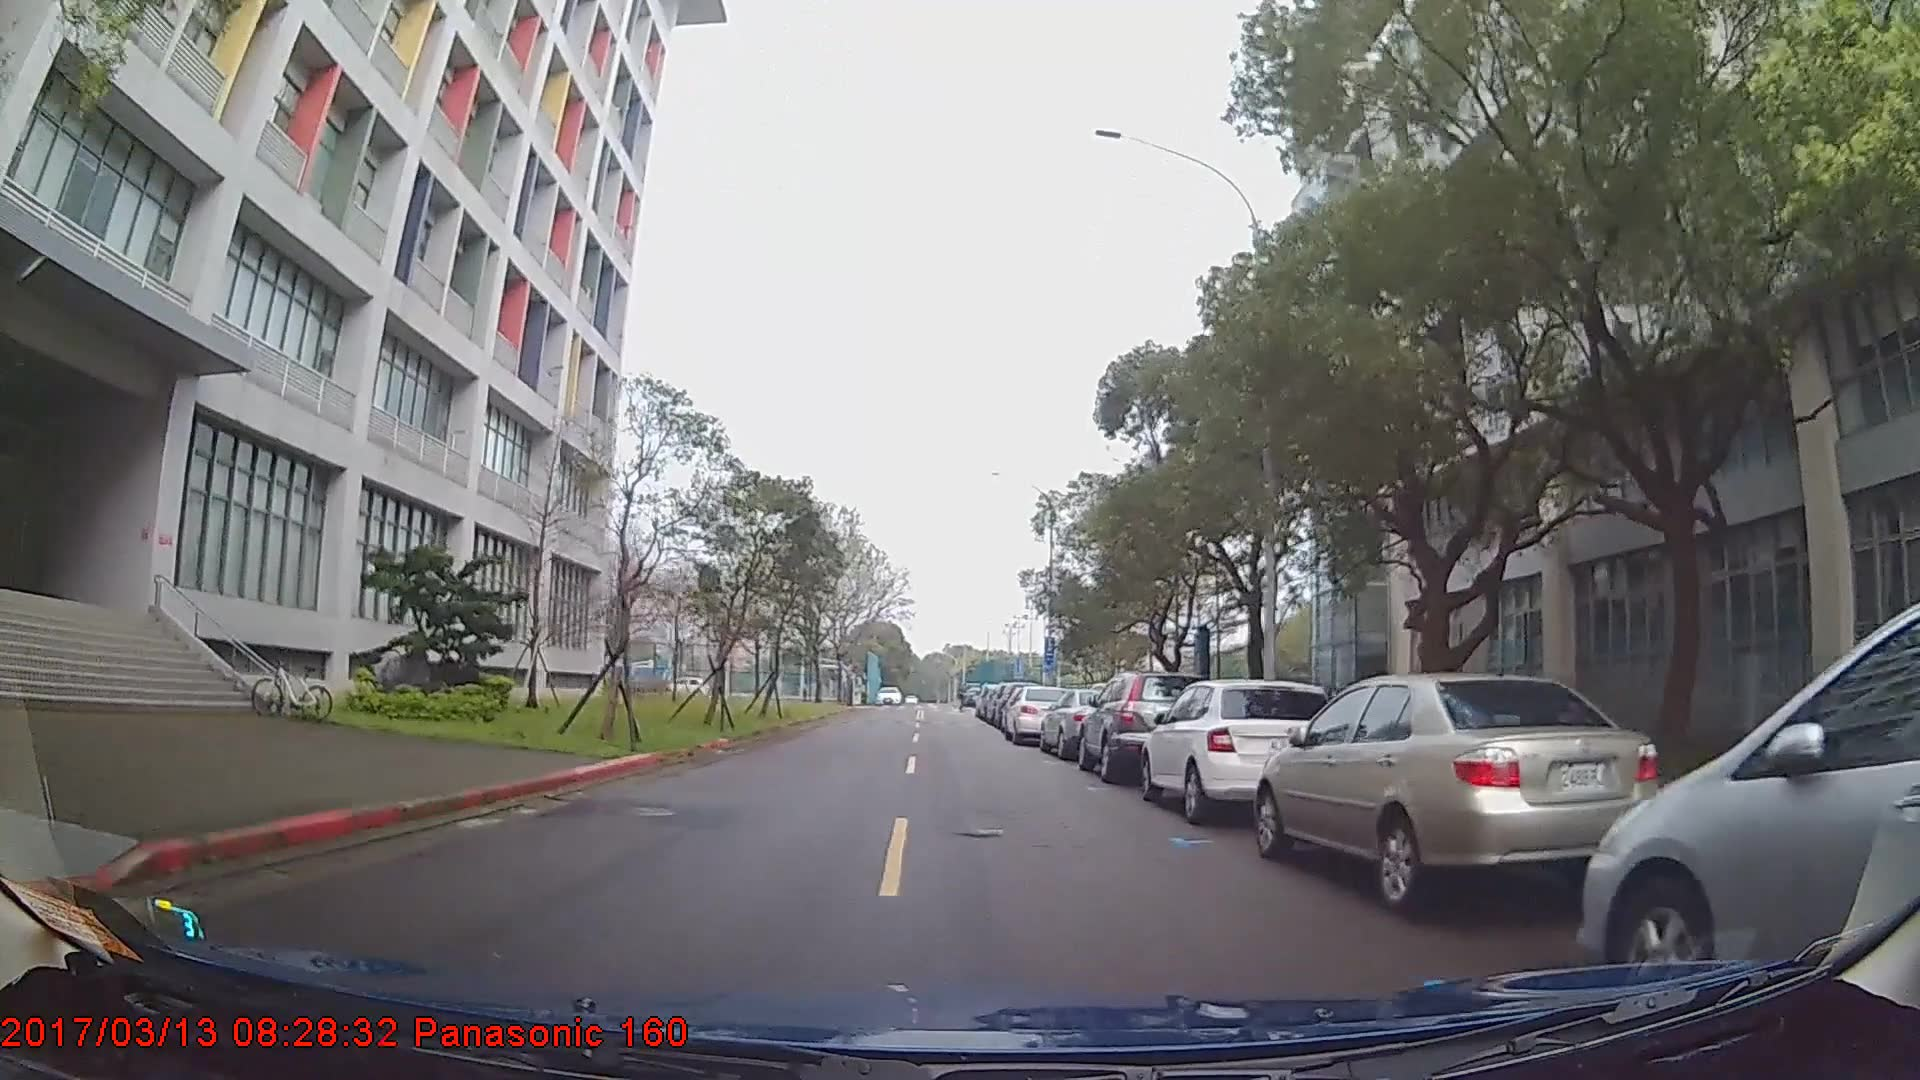vehicle: (1578, 609, 1920, 1010), (1253, 669, 1655, 909), (1139, 680, 1340, 824), (1073, 673, 1212, 783), (1036, 686, 1127, 760), (1001, 684, 1071, 745)
